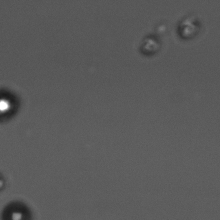Dead Cell: (136, 33, 165, 57), (174, 16, 203, 40)
Living Cell: (1, 198, 39, 220), (1, 87, 24, 123)
